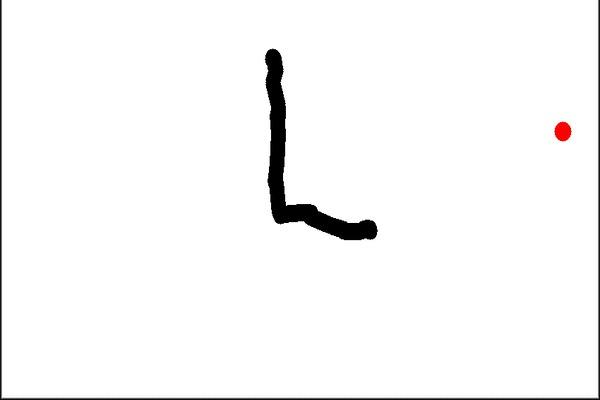L: (255, 40, 382, 247)
